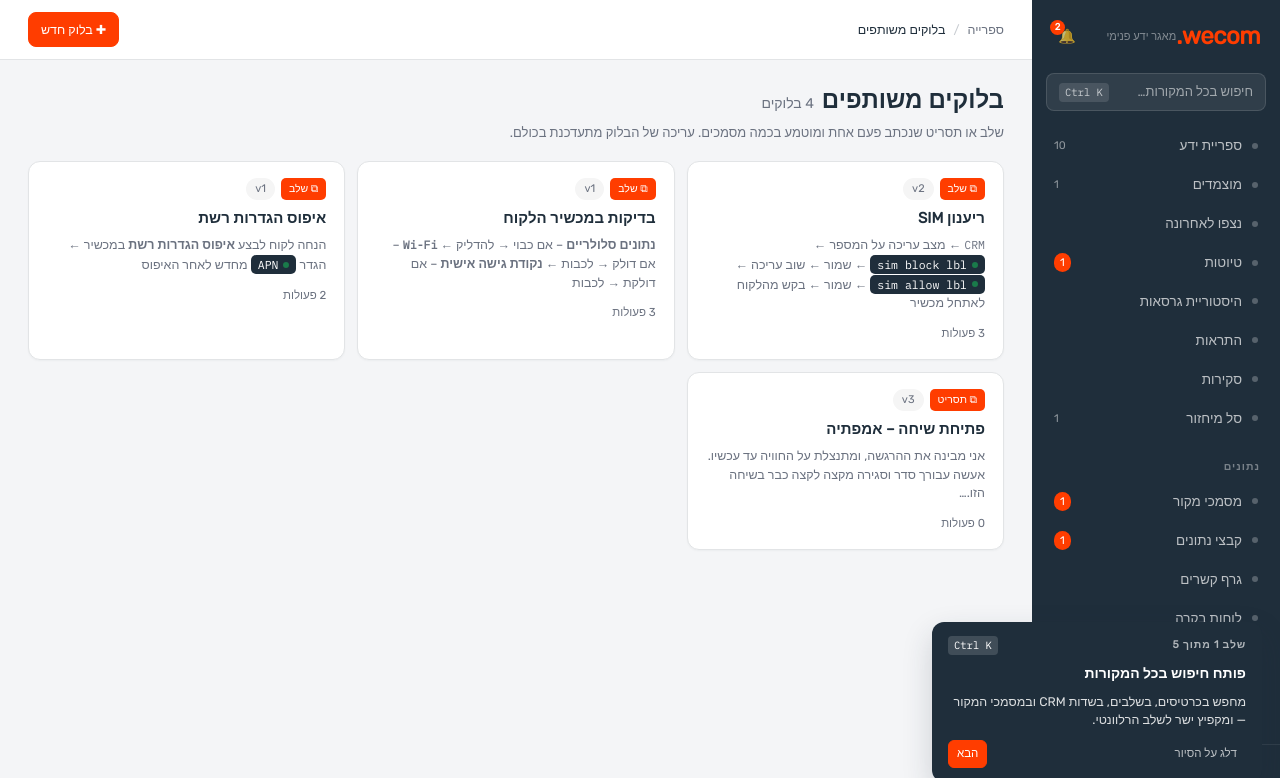
it: <BlockPage> › is reachable from the blocks list
Click the text "ריענון SIM": coordinates (952, 218) left=918, top=209, right=985, bottom=227
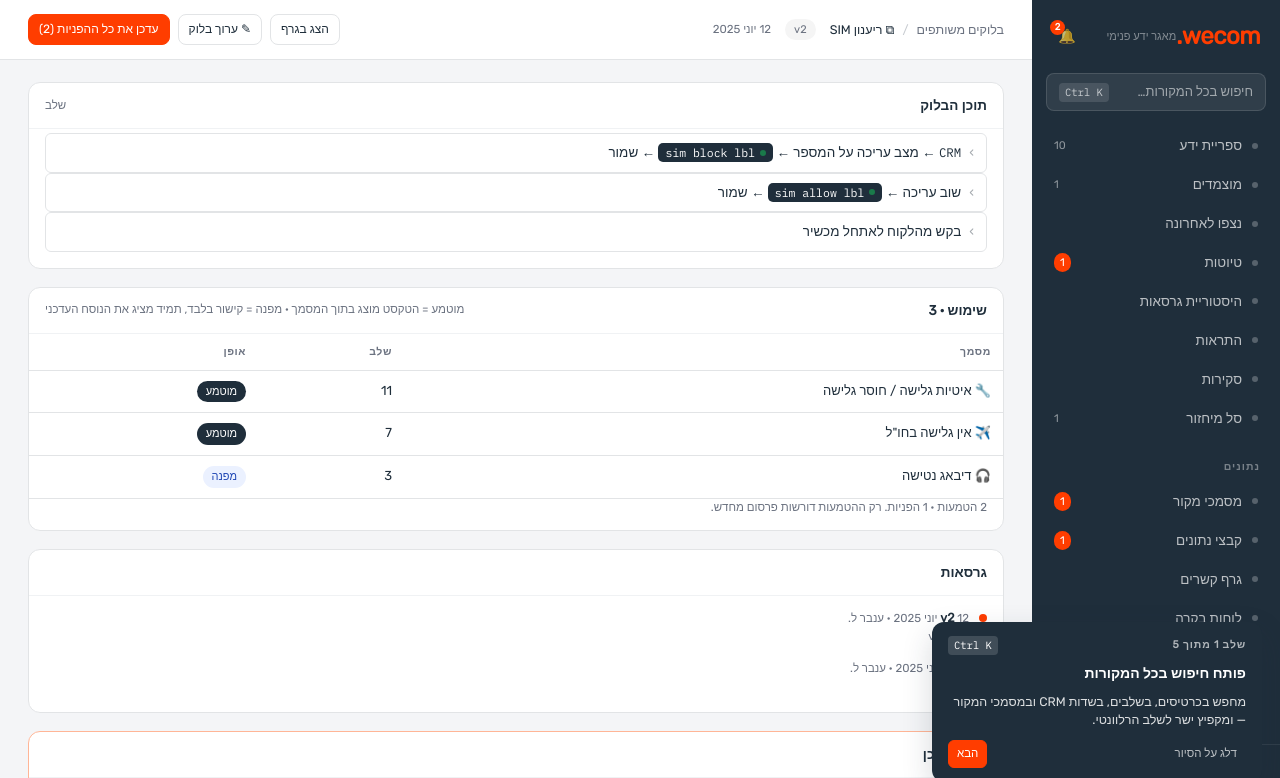
expect the table with test id "block-usage" is shown: met, box left=29, top=334, right=1003, bottom=499
